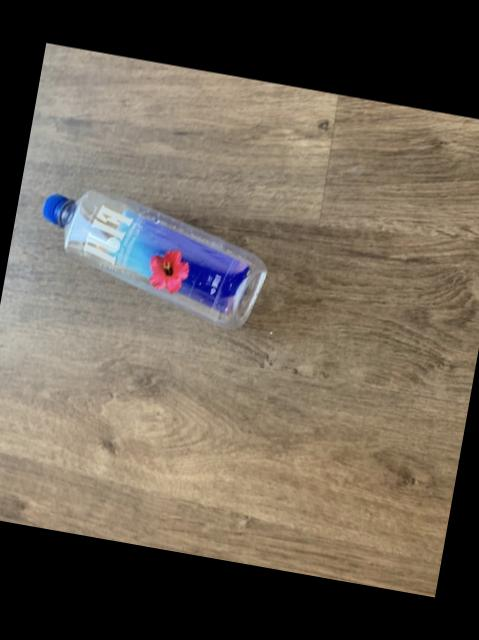plastic: (40, 188, 263, 327)
